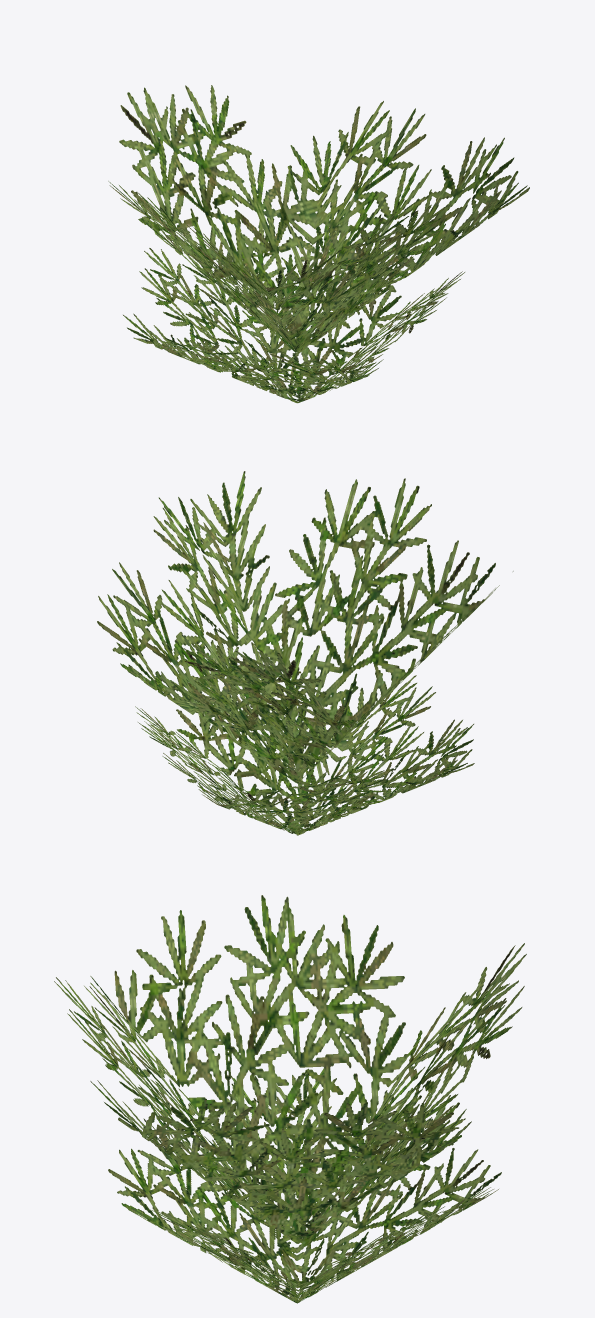
File: bush_desert_a.glb
The picture shows the model from 3 angles, top to bottom: view 1: azimuth 30°, elevation 25°; view 2: azimuth 150°, elevation 25°; view 3: azimuth 270°, elevation 25°; orthographic projection. The views are drawn at different scales.
Size of the model in its own units: 7.57 by 4.81 by 7.57.
1 material, 1 textured.
